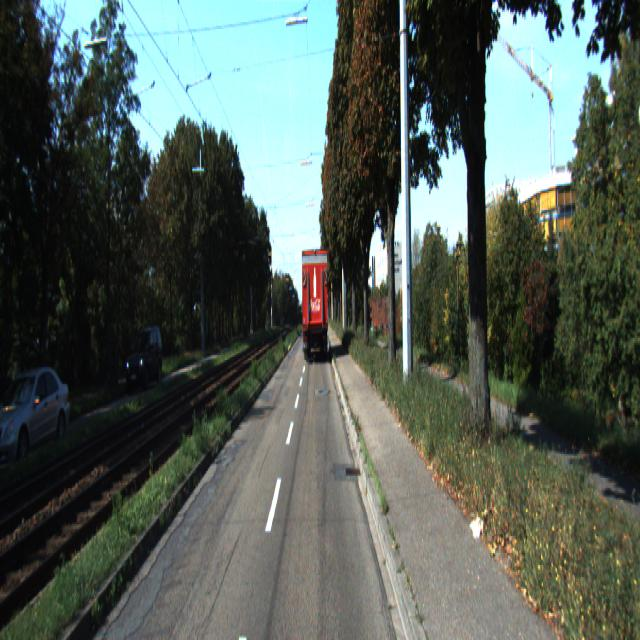Car: (0, 358, 74, 479), (300, 244, 329, 362), (125, 324, 164, 394)
